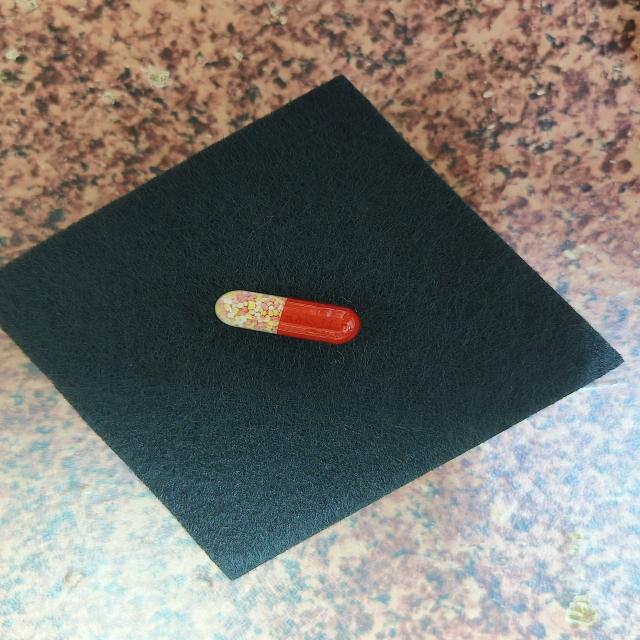Intact Capsule: (215, 290, 361, 344)
